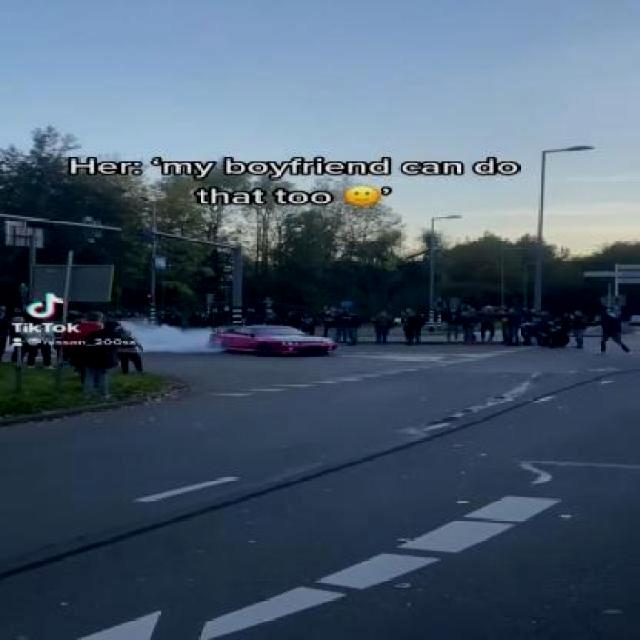car: (213, 324, 342, 363)
